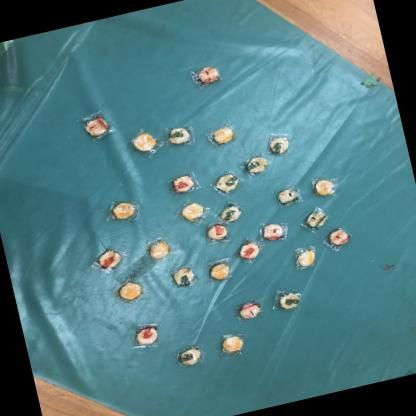green_setoshio: (268, 285, 306, 317), (298, 204, 336, 235), (210, 167, 244, 196), (170, 262, 204, 291), (173, 342, 208, 370), (262, 131, 295, 160), (164, 122, 198, 150), (214, 199, 246, 227), (272, 184, 305, 210), (241, 153, 273, 179)
red_setoshio: (78, 106, 116, 146), (187, 59, 227, 92), (89, 243, 127, 273), (255, 216, 292, 246), (128, 320, 162, 352), (231, 295, 267, 325), (166, 170, 200, 198), (231, 238, 264, 266), (201, 219, 232, 247), (324, 225, 356, 252)
yellow_setoshio: (122, 126, 164, 161), (173, 195, 214, 227), (109, 274, 147, 306), (104, 198, 142, 229), (140, 235, 176, 265), (289, 243, 323, 274), (202, 123, 239, 150), (205, 256, 237, 286), (308, 173, 342, 201), (216, 331, 248, 360)
